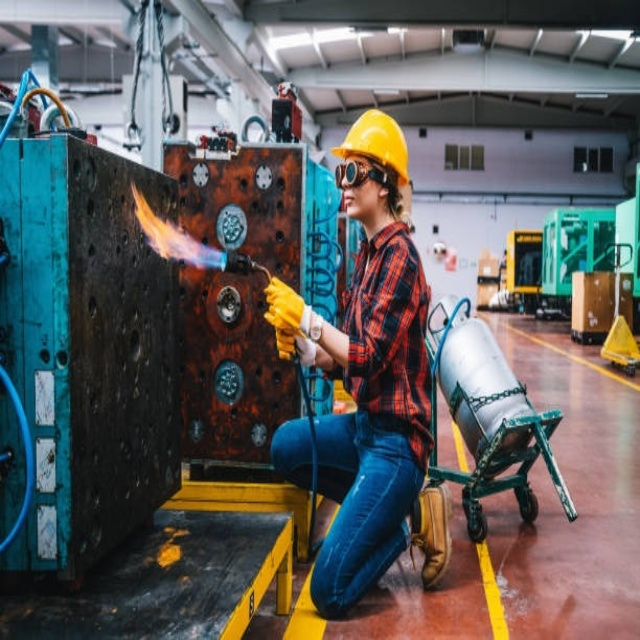Gafas: (333, 160, 390, 190)
Guantes: (263, 277, 306, 332), (272, 323, 305, 362)
Sin_mascara: (338, 190, 360, 217)
